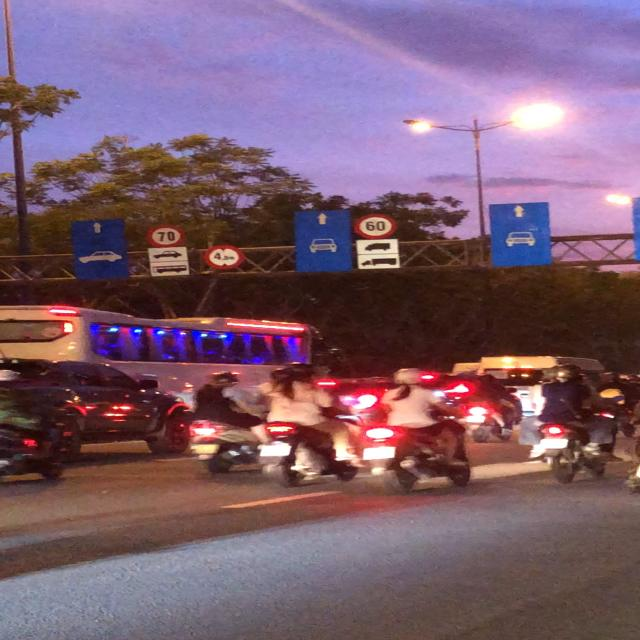Bien bao han che chieu cao: (203, 243, 247, 270)
Bien bao toc do toi da cho phep: (351, 212, 401, 240), (142, 223, 183, 250)
